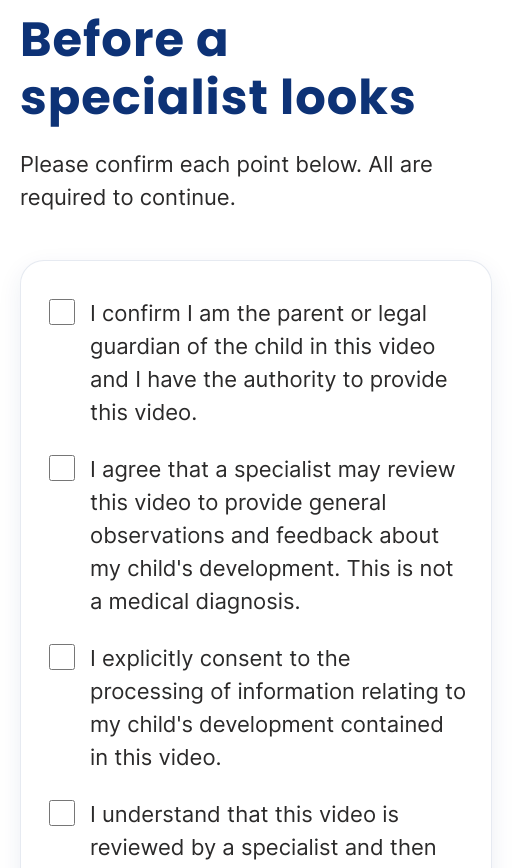
Test: ConsentScreen › enables Continue only after all 4 are checked
The image size is (513, 868).
Click the 1st checkbox at {"x": 62, "y": 312}, box x1=49 y1=299 x2=75 y2=325
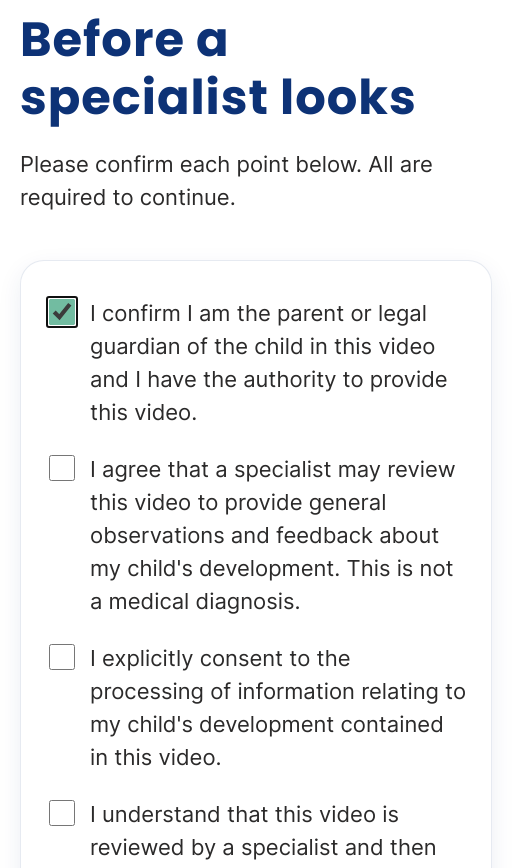
Click the 2nd checkbox at {"x": 62, "y": 468}, box x1=49 y1=455 x2=75 y2=481
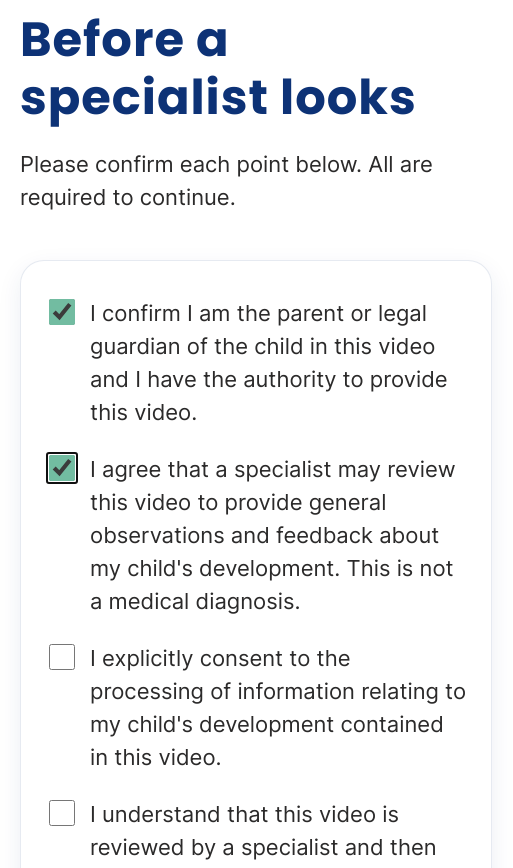
Click the 3rd checkbox at {"x": 62, "y": 657}, box x1=49 y1=644 x2=75 y2=670
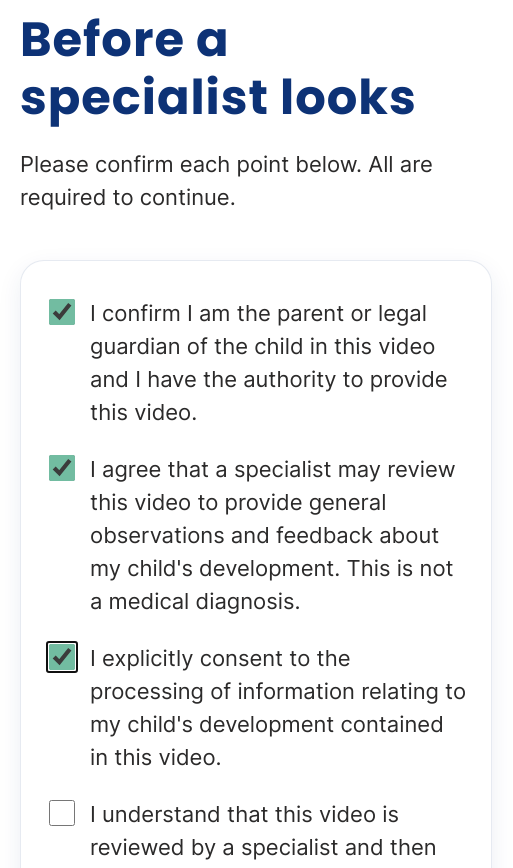
Click the 4th checkbox at {"x": 62, "y": 813}, box x1=49 y1=800 x2=75 y2=826
(page scrolled)
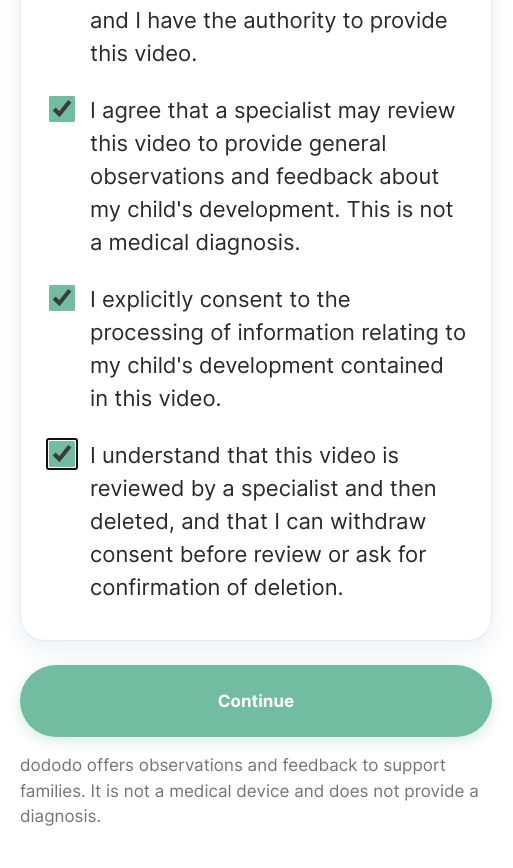
Expected: the button "Continue" is enabled, x1=20 y1=665 x2=492 y2=737
